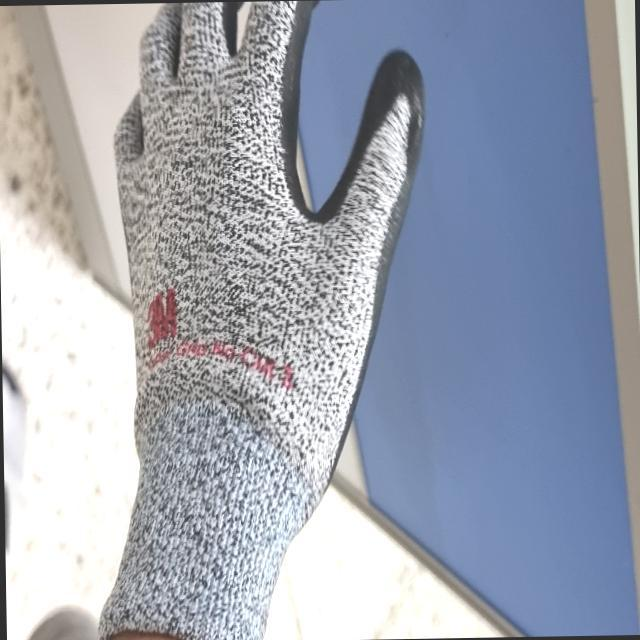Gloves: (95, 0, 428, 638)
